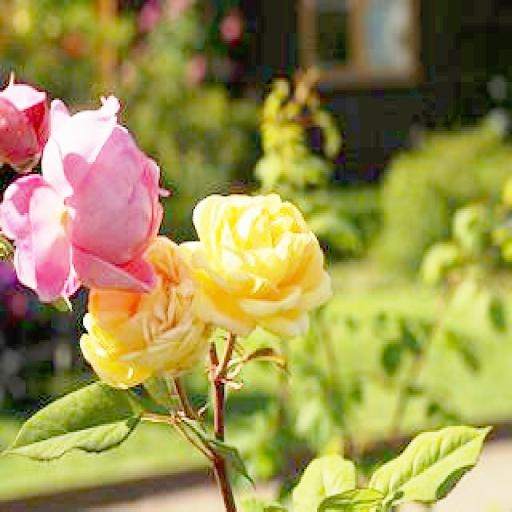rose: (46, 96, 165, 297), (83, 223, 210, 389), (195, 188, 336, 334)
